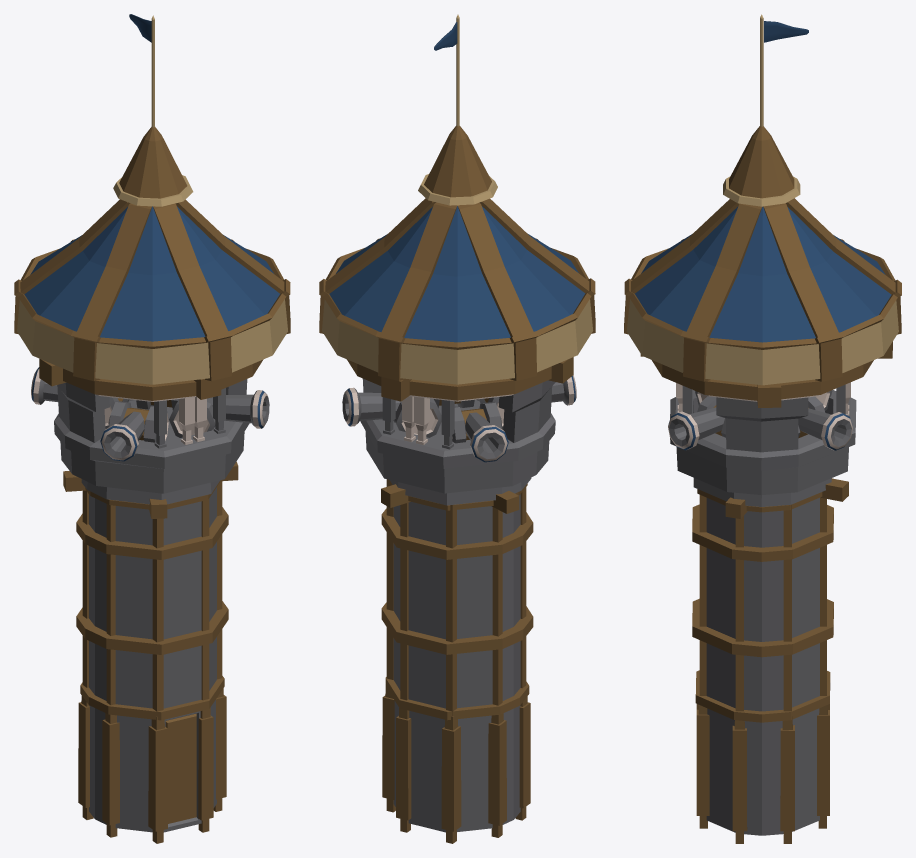
Rendered from CanonTower (1).fbx.
3 renders of one model, left to right at view 1: azimuth 30°, elevation 25°; view 2: azimuth 150°, elevation 25°; view 3: azimuth 270°, elevation 25°, orthographic.
Parts seen in each view (by area): view 1: CanonTower; view 2: CanonTower; view 3: CanonTower.
Boxes of the visible parts, bbox=[...] form: CanonTower: bbox=[14, 14, 290, 843]; CanonTower: bbox=[319, 14, 595, 843]; CanonTower: bbox=[624, 14, 901, 843].
Size of the model in its own units: 7.09 by 22.49 by 7.05.
